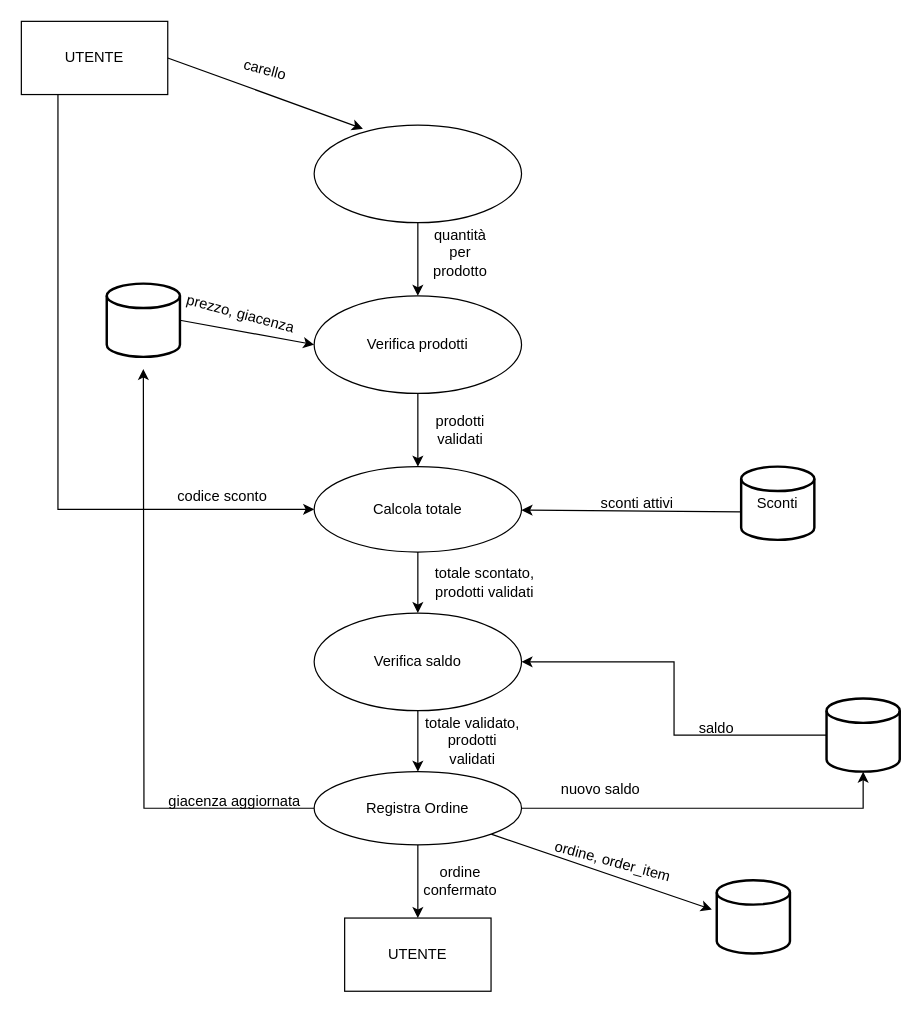
Image size: 922x1013. Some labels were removed from this diagram. Here are the shapes that lost their labels. From the top down, the box of each, then its label:
(313, 124, 522, 223): Aggrega carrello
(105, 282, 181, 357): Prodotti
(825, 697, 900, 772): Utenti
(715, 878, 791, 954): Ordini
